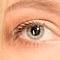eye: (26, 25, 43, 39)
